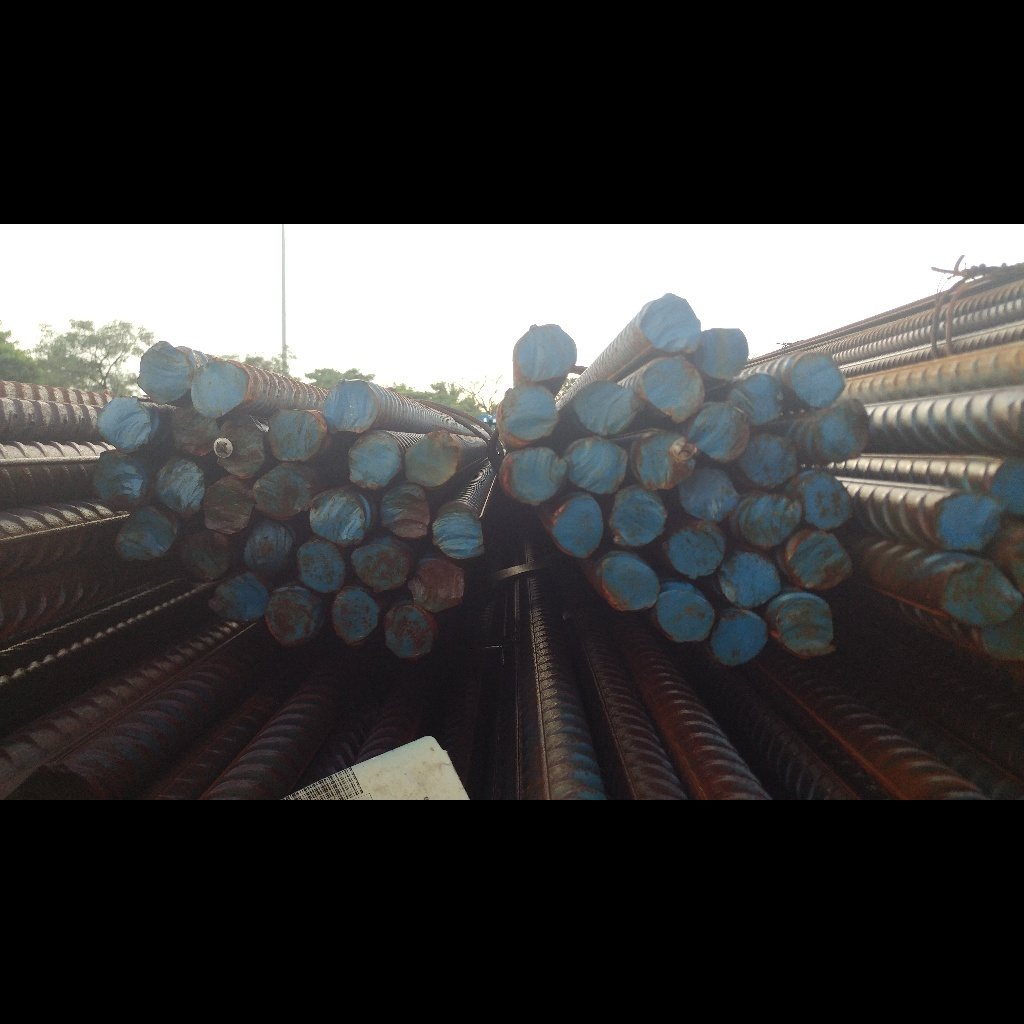dipstick: (943, 560, 1017, 629), (638, 355, 705, 424), (936, 492, 1004, 556), (633, 429, 697, 495), (774, 594, 839, 658), (637, 291, 701, 355), (787, 529, 852, 592), (505, 443, 567, 507), (688, 401, 750, 464), (514, 323, 577, 384), (678, 463, 739, 526), (718, 548, 781, 609), (498, 383, 561, 443), (609, 484, 667, 549), (136, 337, 193, 403), (567, 436, 629, 496), (114, 506, 179, 563), (572, 379, 638, 435), (666, 520, 726, 580), (190, 360, 250, 419), (266, 585, 324, 646), (552, 493, 604, 560), (742, 492, 802, 550), (742, 430, 799, 491), (815, 399, 870, 462), (403, 429, 460, 489), (709, 612, 770, 668), (801, 471, 856, 533), (600, 558, 662, 613), (727, 372, 787, 428), (654, 588, 714, 644), (215, 416, 268, 479), (790, 351, 847, 409), (266, 407, 325, 463), (96, 397, 153, 454), (347, 432, 402, 491), (309, 488, 366, 544), (382, 603, 438, 660), (153, 458, 206, 518), (252, 465, 309, 520), (409, 558, 466, 613), (324, 379, 380, 434), (244, 521, 296, 580), (94, 453, 146, 511), (202, 478, 253, 536), (350, 542, 410, 590), (697, 326, 750, 380), (207, 572, 267, 619), (380, 483, 431, 538), (295, 537, 345, 593), (330, 587, 379, 644), (431, 510, 486, 560), (170, 405, 219, 458), (179, 532, 230, 581)
